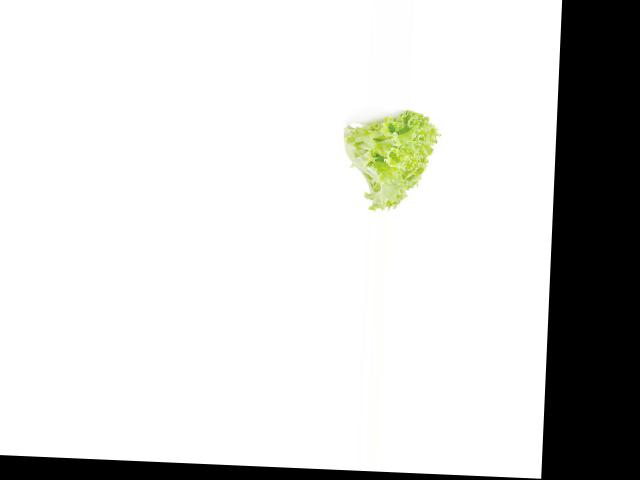lettuce: (333, 107, 447, 217)
